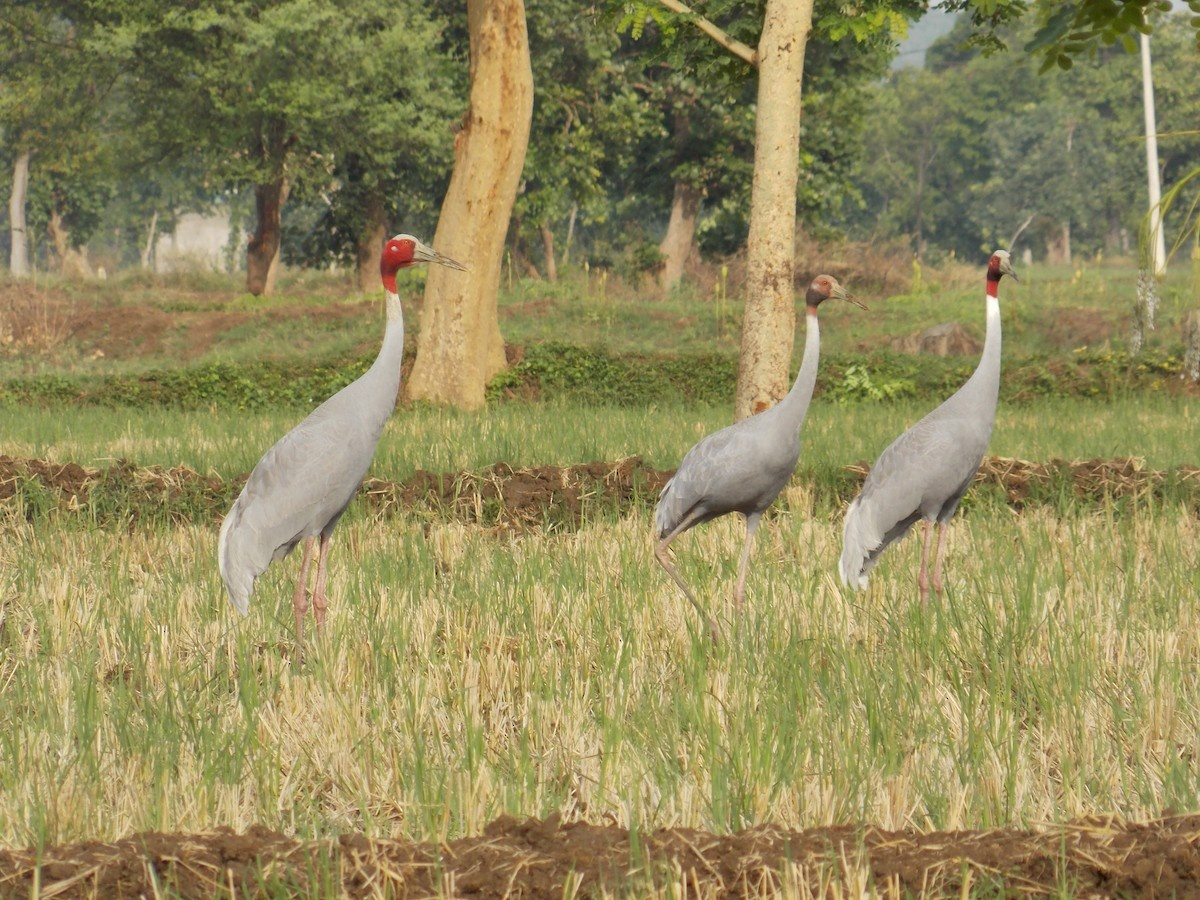crane: (223, 228, 470, 601), (838, 246, 1033, 603), (662, 269, 871, 548)
